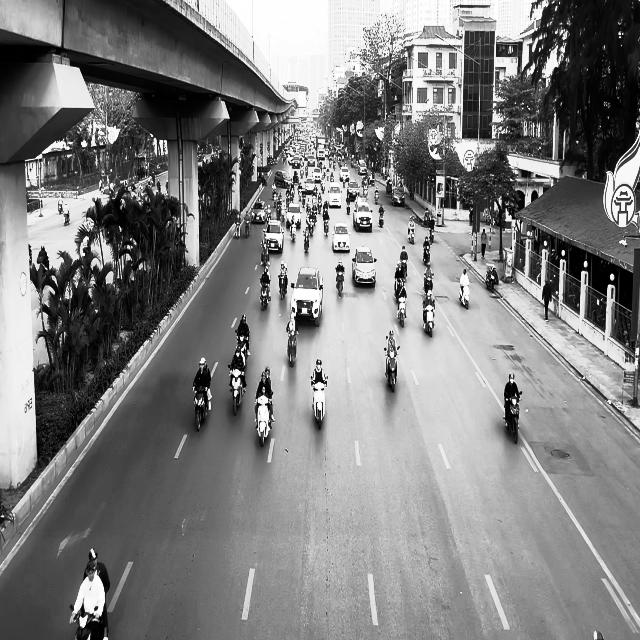car: (290, 266, 324, 326), (352, 245, 377, 287), (264, 219, 284, 253), (353, 202, 373, 232), (332, 222, 350, 252), (286, 203, 302, 228), (251, 200, 267, 222), (328, 182, 342, 207), (391, 187, 405, 206)
motorbike: (70, 604, 108, 640), (255, 391, 274, 447), (228, 364, 247, 416), (192, 384, 212, 432), (504, 391, 522, 444), (311, 375, 328, 429), (384, 344, 400, 392), (423, 299, 436, 337), (286, 327, 298, 367), (396, 294, 407, 327), (486, 264, 498, 292), (260, 280, 271, 310), (459, 281, 470, 309), (335, 268, 345, 298), (278, 274, 288, 299), (424, 271, 434, 294), (423, 244, 431, 266), (408, 224, 415, 244), (378, 209, 384, 228), (63, 210, 70, 226)
